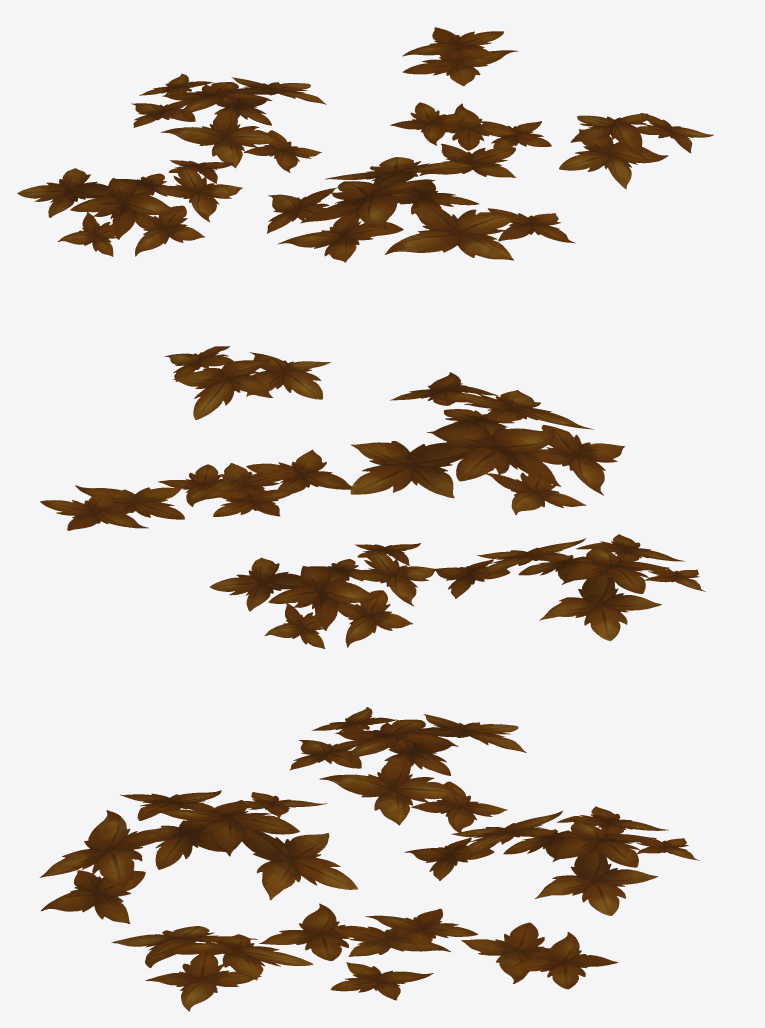
The model's file is Wetlands_Details_01.fbx.
3 renders of one model, top to bottom at view 1: azimuth 30°, elevation 25°; view 2: azimuth 150°, elevation 25°; view 3: azimuth 270°, elevation 25°, orthographic. The views are drawn at different scales.
Visible parts, largest first — view 1: Wetlands_Details_01; view 2: Wetlands_Details_01; view 3: Wetlands_Details_01.
Boxes of the visible parts, <box> form: Wetlands_Details_01: <box>17,27,713,262</box>; Wetlands_Details_01: <box>40,346,705,648</box>; Wetlands_Details_01: <box>39,707,699,1011</box>.
Bounding box in the file's own units: 2.5 × 0.188 × 2.2.
Materials: 1 (1 with a texture image).
